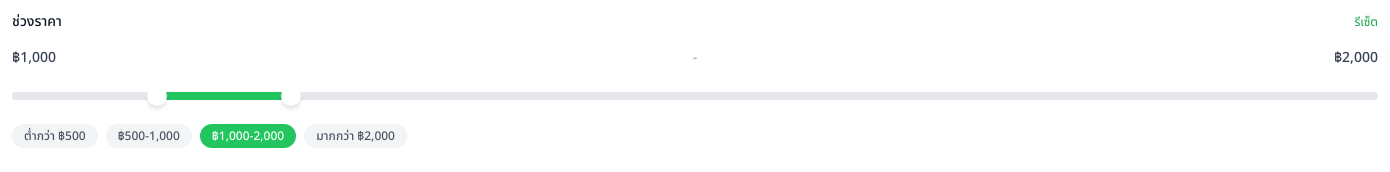
PriceFilter Component › min slider cannot exceed max slider
# Try to set min higher than max
Step 1. Set the slider named "ราคาต่ำสุด" to "2500" → (358, 96), box [12,84,1378,108]
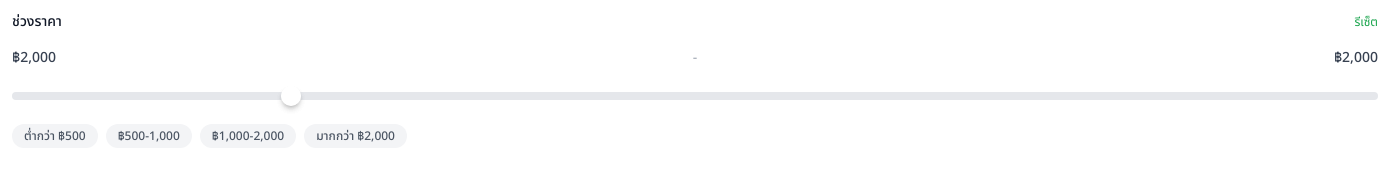
Result: the 1st text "฿2,000" is shown at [12,48,56,68]
Result: the slider named "ราคาต่ำสุด" holds "2000" at [12,84,1378,108]
